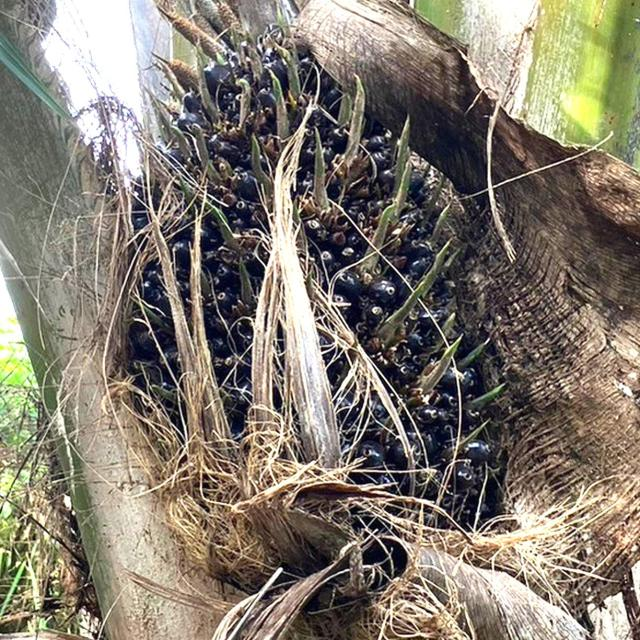unripe: (122, 37, 494, 528)
